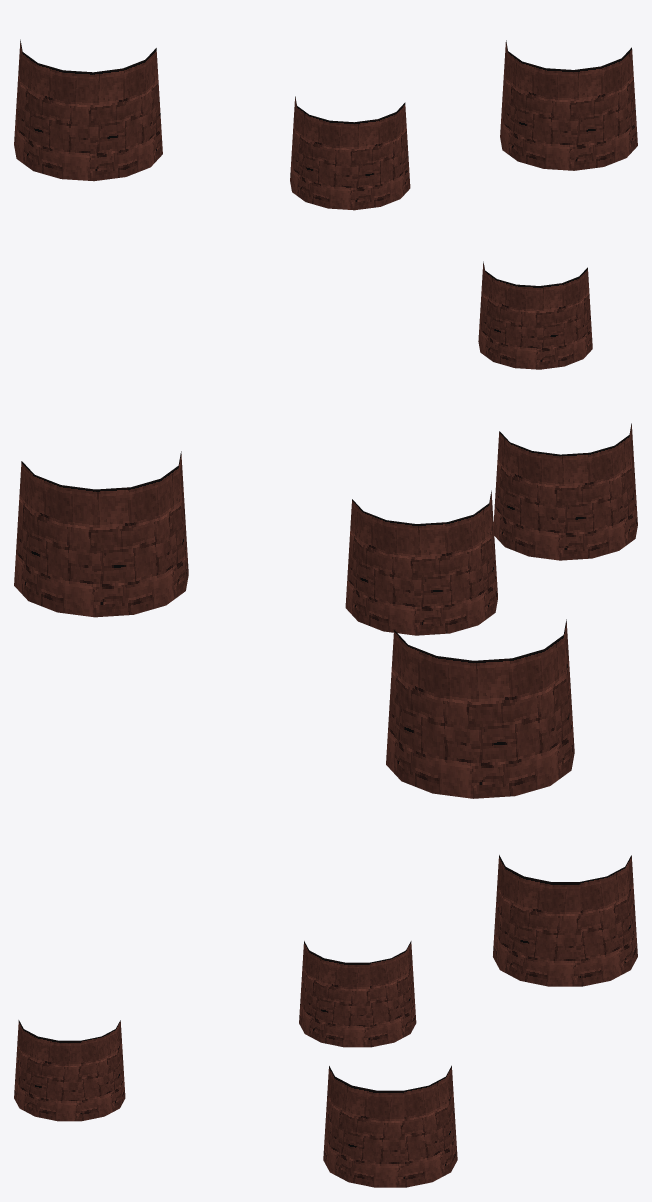
Rendered from sceneMagic.glb.
The picture shows the model from 3 angles, top to bottom: view 1: azimuth 30°, elevation 25°; view 2: azimuth 150°, elevation 25°; view 3: azimuth 270°, elevation 25°; orthographic projection. The views are drawn at different scales.
Parts seen in each view (by area): view 1: Plane.001, Plane.002, Plane, Plane.003; view 2: Plane.001, Plane.002, Plane, Plane.003; view 3: Plane.001, Plane.002, Plane, Plane.003.
Part boxes in pixels (x1=…): Plane.001: x1=14, y1=39, x2=162, y2=181; Plane.002: x1=500, y1=40, x2=637, y2=170; Plane: x1=290, y1=96, x2=410, y2=210; Plane.003: x1=478, y1=261, x2=592, y2=369; Plane.001: x1=386, y1=619, x2=574, y2=798; Plane.002: x1=14, y1=451, x2=188, y2=617; Plane: x1=345, y1=490, x2=497, y2=635; Plane.003: x1=493, y1=423, x2=637, y2=560; Plane.001: x1=493, y1=855, x2=637, y2=986; Plane.002: x1=323, y1=1065, x2=457, y2=1187; Plane: x1=299, y1=941, x2=416, y2=1047; Plane.003: x1=14, y1=1020, x2=125, y2=1121.
Size of what is drawn, in the model's own units: 15.64 by 4.67 by 17.12.
1 material, 1 textured.
